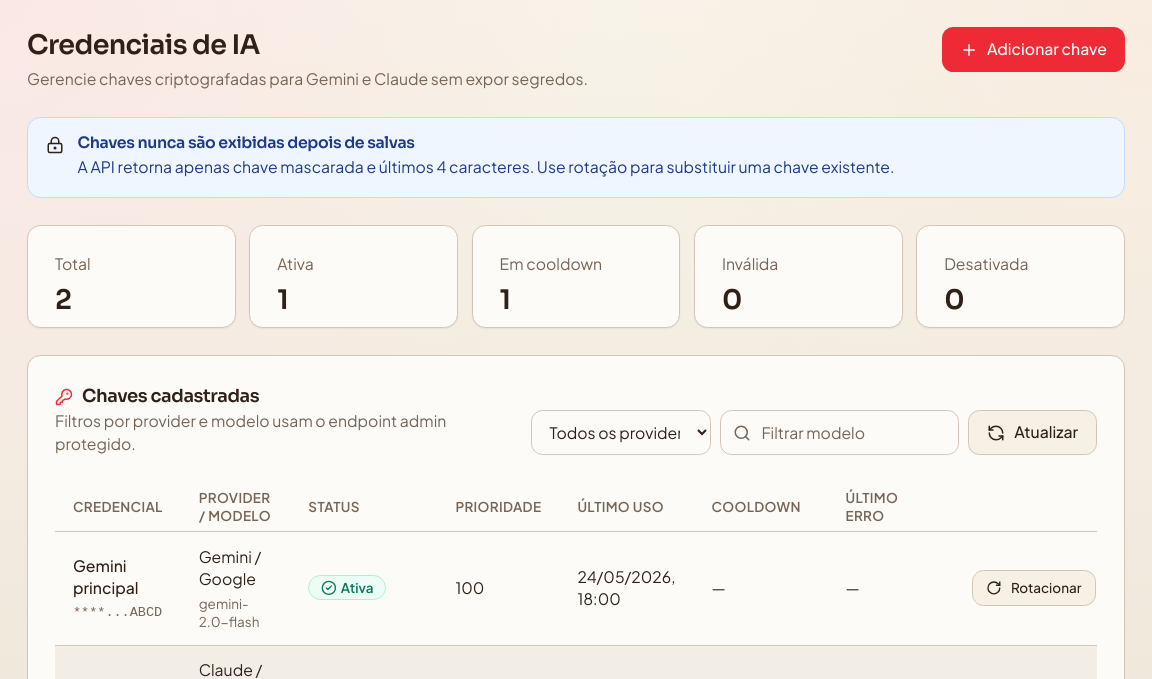
Test case: AdminAiProviderCredentialsPage › não renderiza chave em erro de criação retornado pela API
Expected: the text "Gemini principal" is shown, top-left (73, 556), bottom-right (138, 597)
Click the button "Adicionar chave" at (1034,50), box top-left (942, 27), bottom-right (1125, 72)
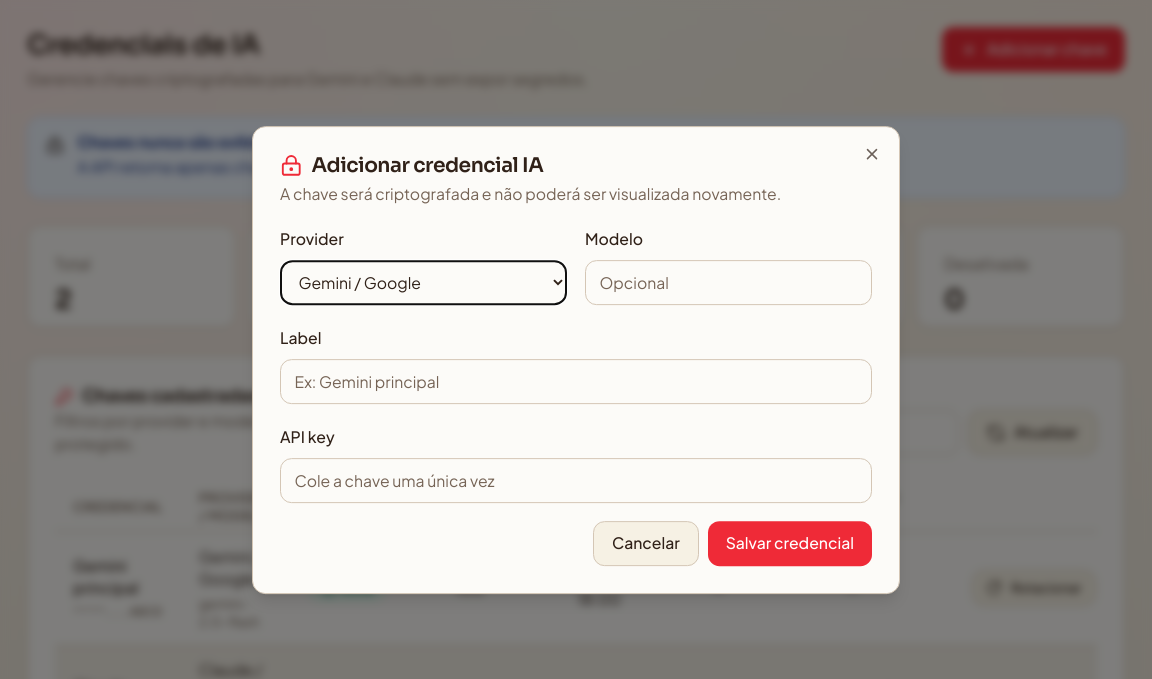
Type "Gemini com erro" into the field labelled "Label" at (576,381), box top-left (280, 359), bottom-right (872, 404)
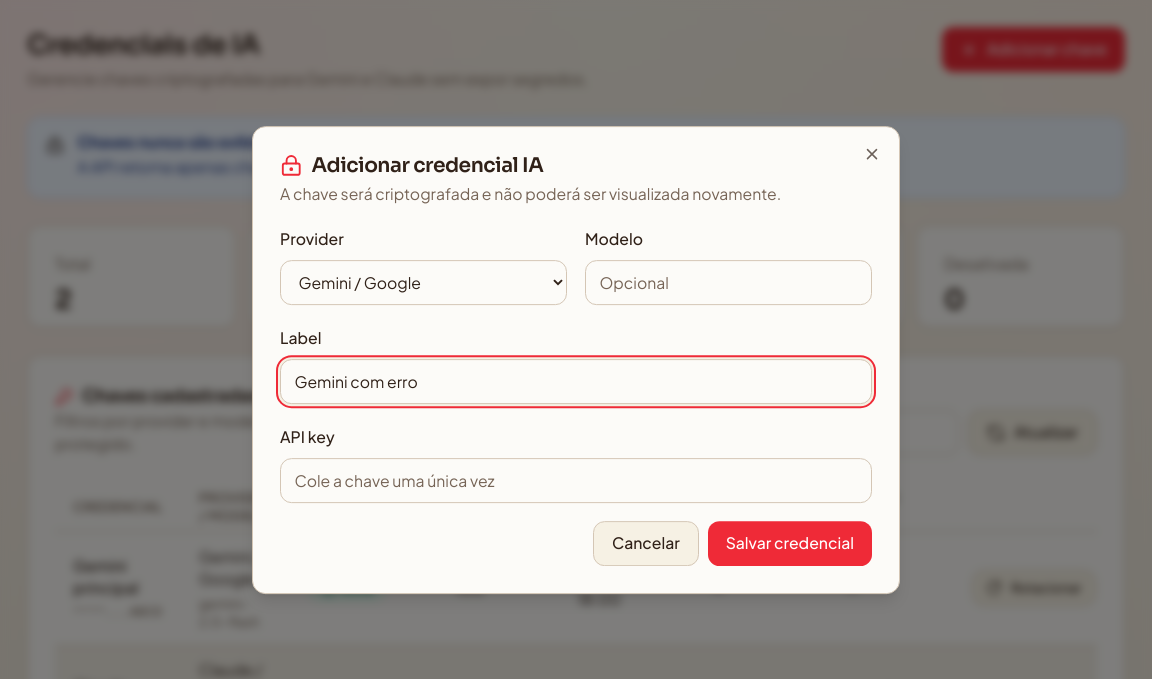
Type "raw-secret-key" into the password field labelled "API key" at (576,480), box top-left (280, 458), bottom-right (872, 503)
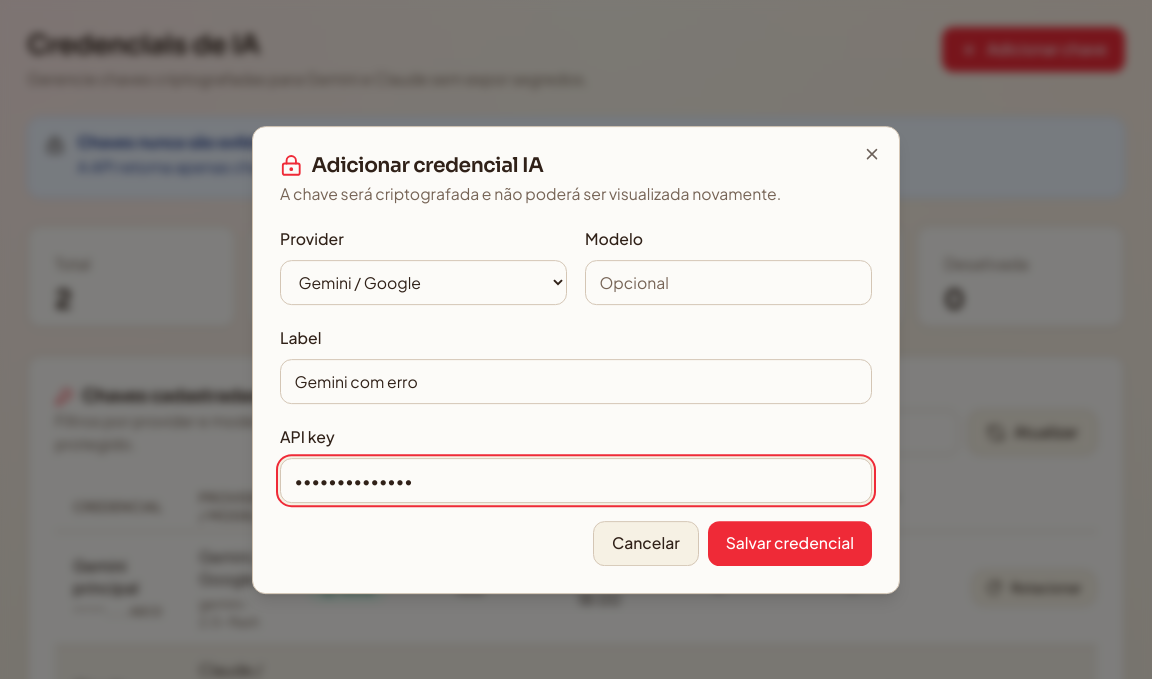
Click the button "Salvar credencial" at (790,543), box top-left (708, 521), bottom-right (872, 566)
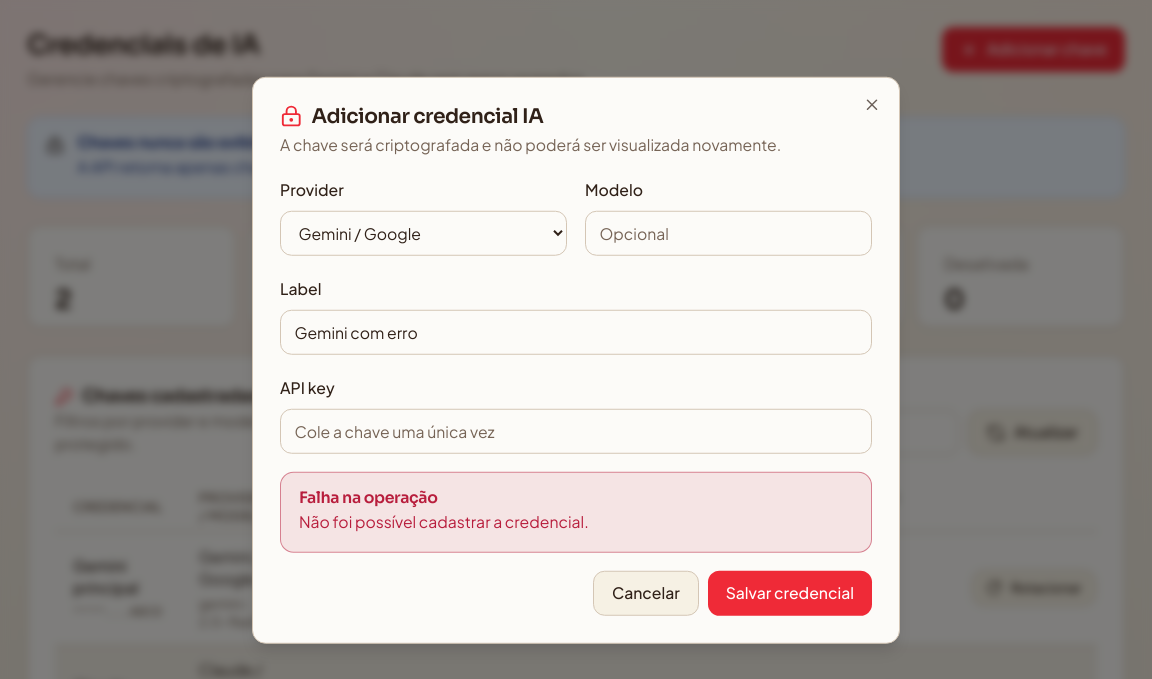
Now the text "Não foi possível cadastrar a credencial." is shown, box top-left (299, 512), bottom-right (589, 531)
Now the password field labelled "API key" is empty, box top-left (280, 408), bottom-right (872, 454)
